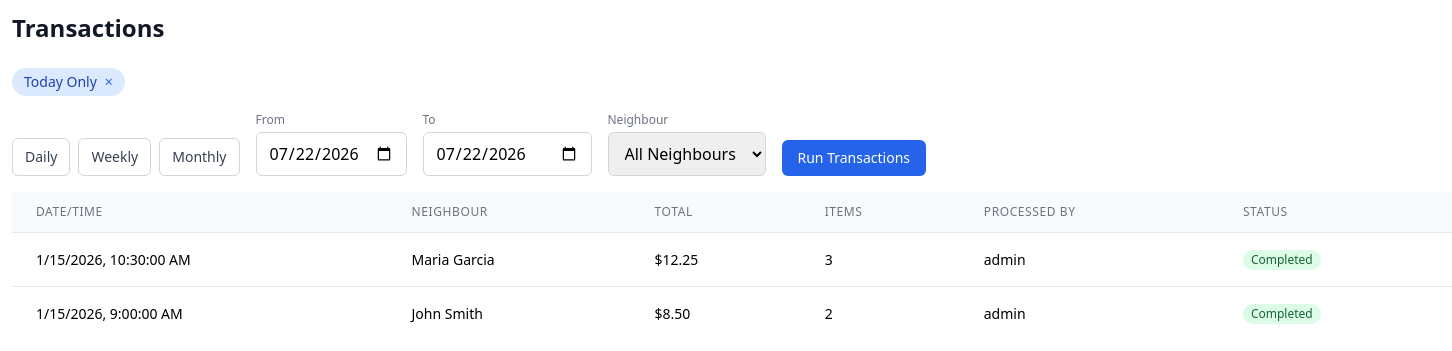
Test case: TransactionListPage › clears today filter when clear button is clicked
The width and height of the screenshot is (1452, 351).
Click the button with test id "clear-today-filter" at point(109, 82), box x1=105 y1=72 x2=113 y2=92
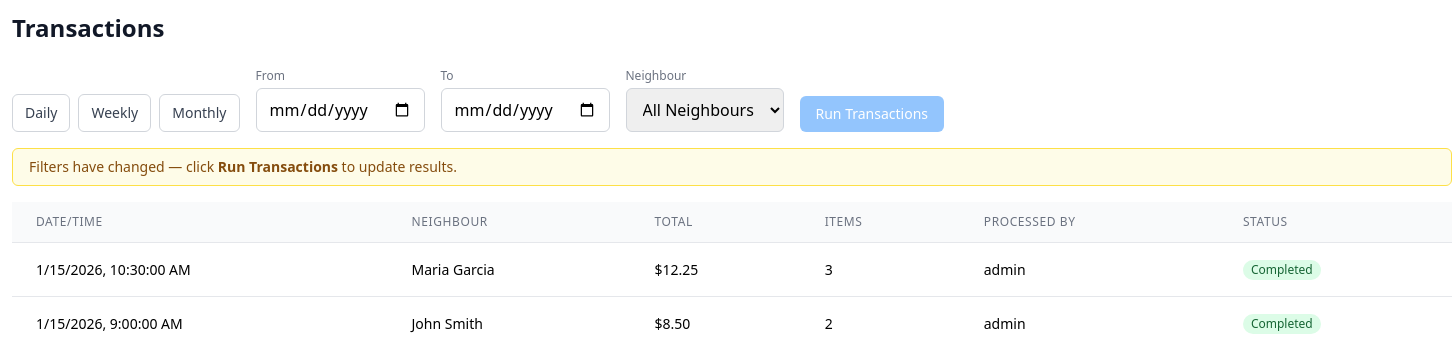
expect the button with test id "clear-today-filter" is gone: met
expect the date field with test id "filter-date-from" is empty: met, box x1=256 y1=88 x2=424 y2=132
expect the date field with test id "filter-date-to" is empty: met, box x1=440 y1=88 x2=610 y2=132
